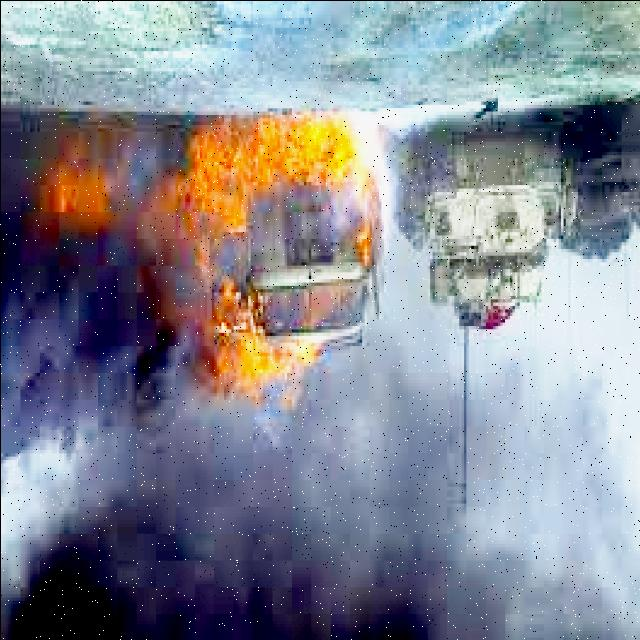api: (169, 109, 392, 397), (23, 125, 123, 236)
